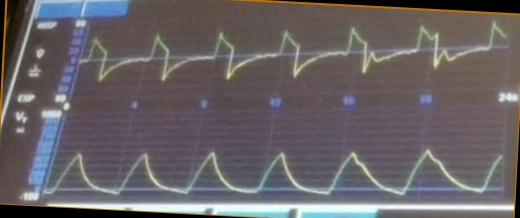Premature_cycling Flow: (86, 20, 507, 89)
Premature_cycling Volume: (54, 142, 503, 198)
